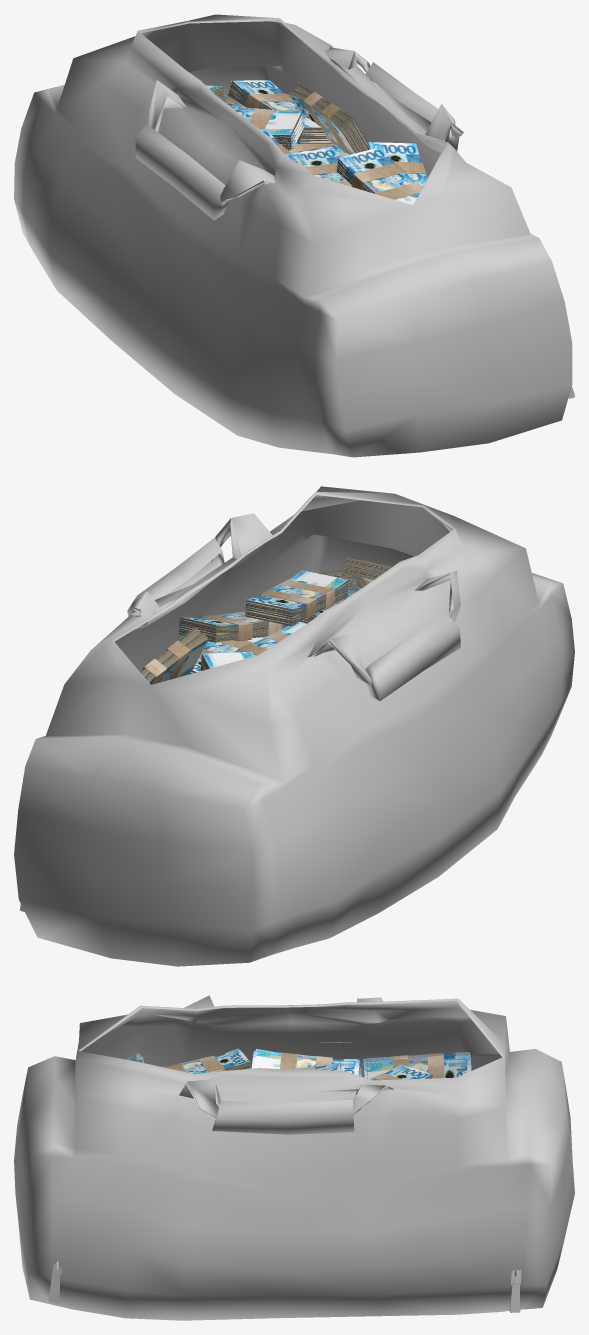
Rendered from bag .fbx.
3 views of the same model, one above another, from view 1: azimuth 30°, elevation 25°; view 2: azimuth 150°, elevation 25°; view 3: azimuth 270°, elevation 25° (orthographic). The views are drawn at different scales.
Parts seen in each view (by area): view 1: Bag.001, Cash.001, Bag; view 2: Bag.001, Bag, Cash.001; view 3: Bag.001, Bag, Cash.001.
Part boxes in pixels (x1,y1,x2,y2): Bag.001: [14, 14, 572, 457]; Cash.001: [206, 80, 427, 204]; Bag: [135, 46, 574, 398]; Bag.001: [14, 486, 574, 966]; Bag: [20, 513, 474, 911]; Cash.001: [140, 556, 393, 684]; Bag.001: [14, 998, 574, 1320]; Bag: [48, 995, 521, 1312]; Cash.001: [126, 1048, 471, 1080].
Bounding box in the file's own units: 0.4877 × 0.4342 × 0.9009.
